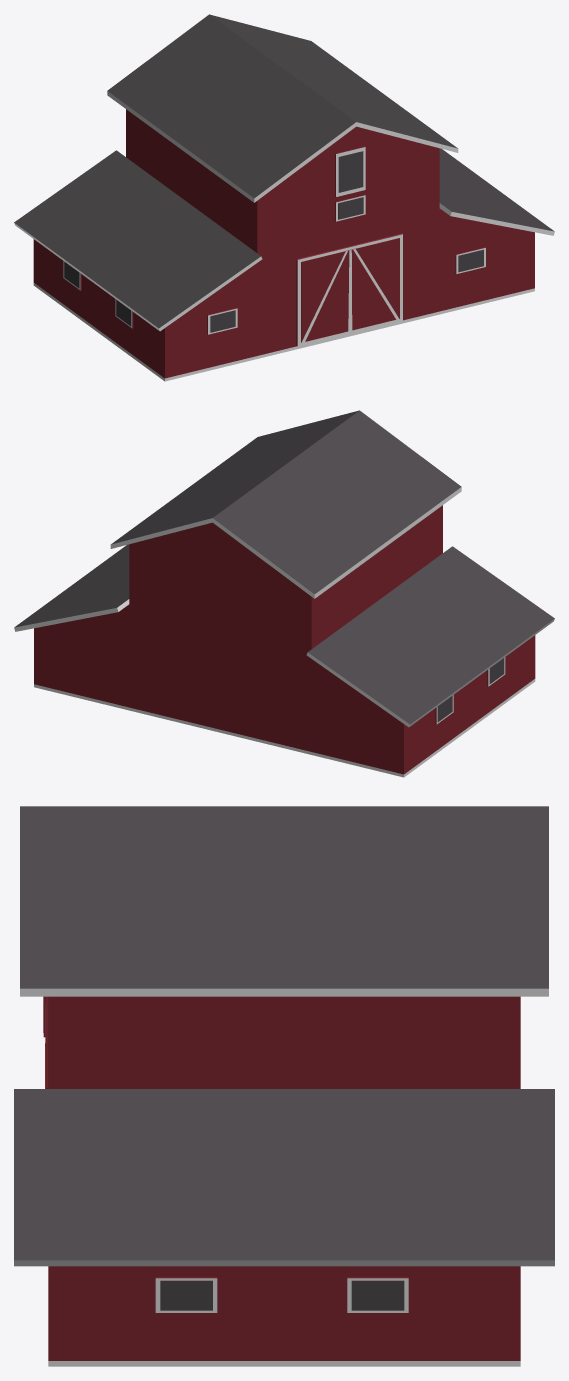
File: Celeiro.fbx
The picture shows the model from 3 angles, top to bottom: view 1: azimuth 30°, elevation 25°; view 2: azimuth 150°, elevation 25°; view 3: azimuth 270°, elevation 25°; orthographic projection. The views are drawn at different scales.
Parts seen in each view (by area): view 1: Cube; view 2: Cube; view 3: Cube.
Boxes of the visible parts, x1=… form: Cube: x1=14, y1=14, x2=554, y2=381; Cube: x1=14, y1=410, x2=554, y2=777; Cube: x1=14, y1=806, x2=554, y2=1366.
Bounding box in the file's own units: 2755 × 1476 × 1825.
